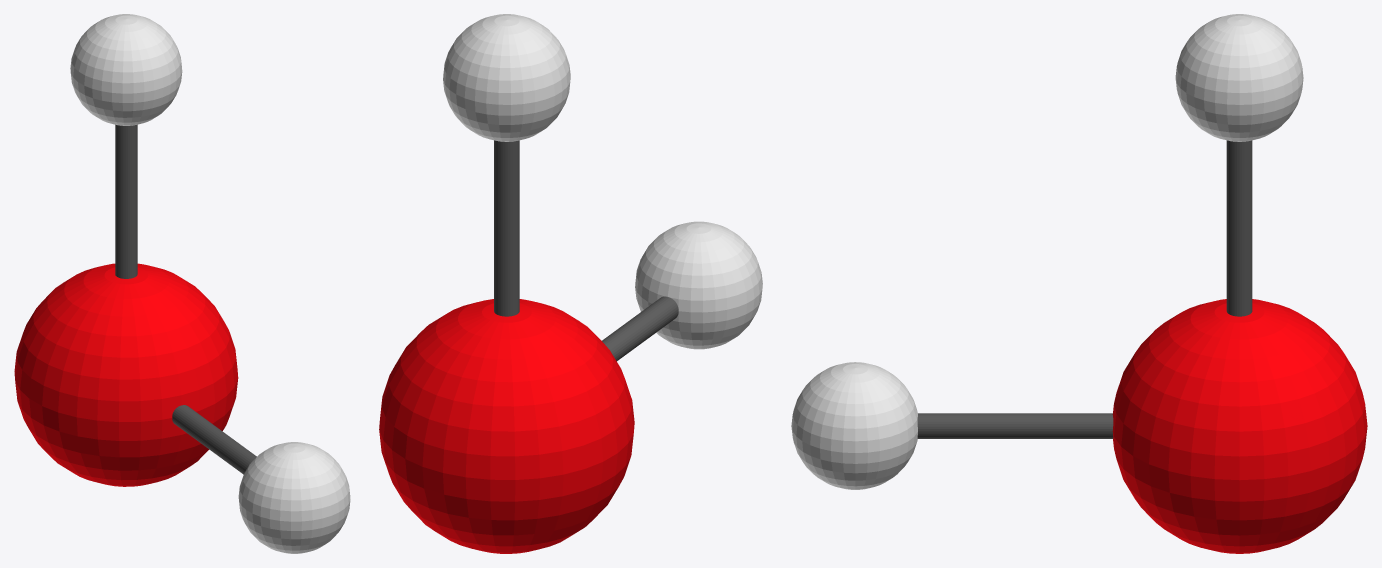
File: HydrogenCor.fbx
3 renders of one model, left to right at view 1: azimuth 30°, elevation 25°; view 2: azimuth 150°, elevation 25°; view 3: azimuth 270°, elevation 25°, orthographic. The views are drawn at different scales.
Visible parts, largest first — view 1: Sphere, H4, H2, C1, C3; view 2: Sphere, H4, H2, C1, C3; view 3: Sphere, H4, H2, C3, C1.
Boxes of the visible parts, box(x1,y1,x2,y2) form: Sphere: box(14, 263, 238, 486); H4: box(70, 14, 182, 125); H2: box(238, 442, 350, 553); C1: box(115, 124, 137, 278); C3: box(172, 405, 256, 474); Sphere: box(379, 299, 634, 553); H4: box(443, 14, 570, 141); H2: box(635, 221, 762, 349); C1: box(494, 140, 519, 316); C3: box(602, 296, 678, 361); Sphere: box(1112, 299, 1367, 553); H4: box(1175, 14, 1303, 141); H2: box(791, 362, 917, 489); C3: box(917, 413, 1113, 438); C1: box(1226, 140, 1252, 316).
Size of the model in its own units: 20 by 45 by 45.
